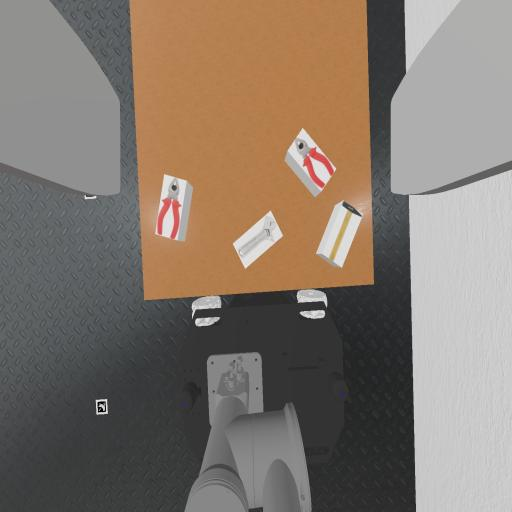hammer: (330, 202, 361, 259)
pliers: (296, 138, 334, 188), (157, 178, 181, 239)
wrench: (239, 216, 276, 257)
